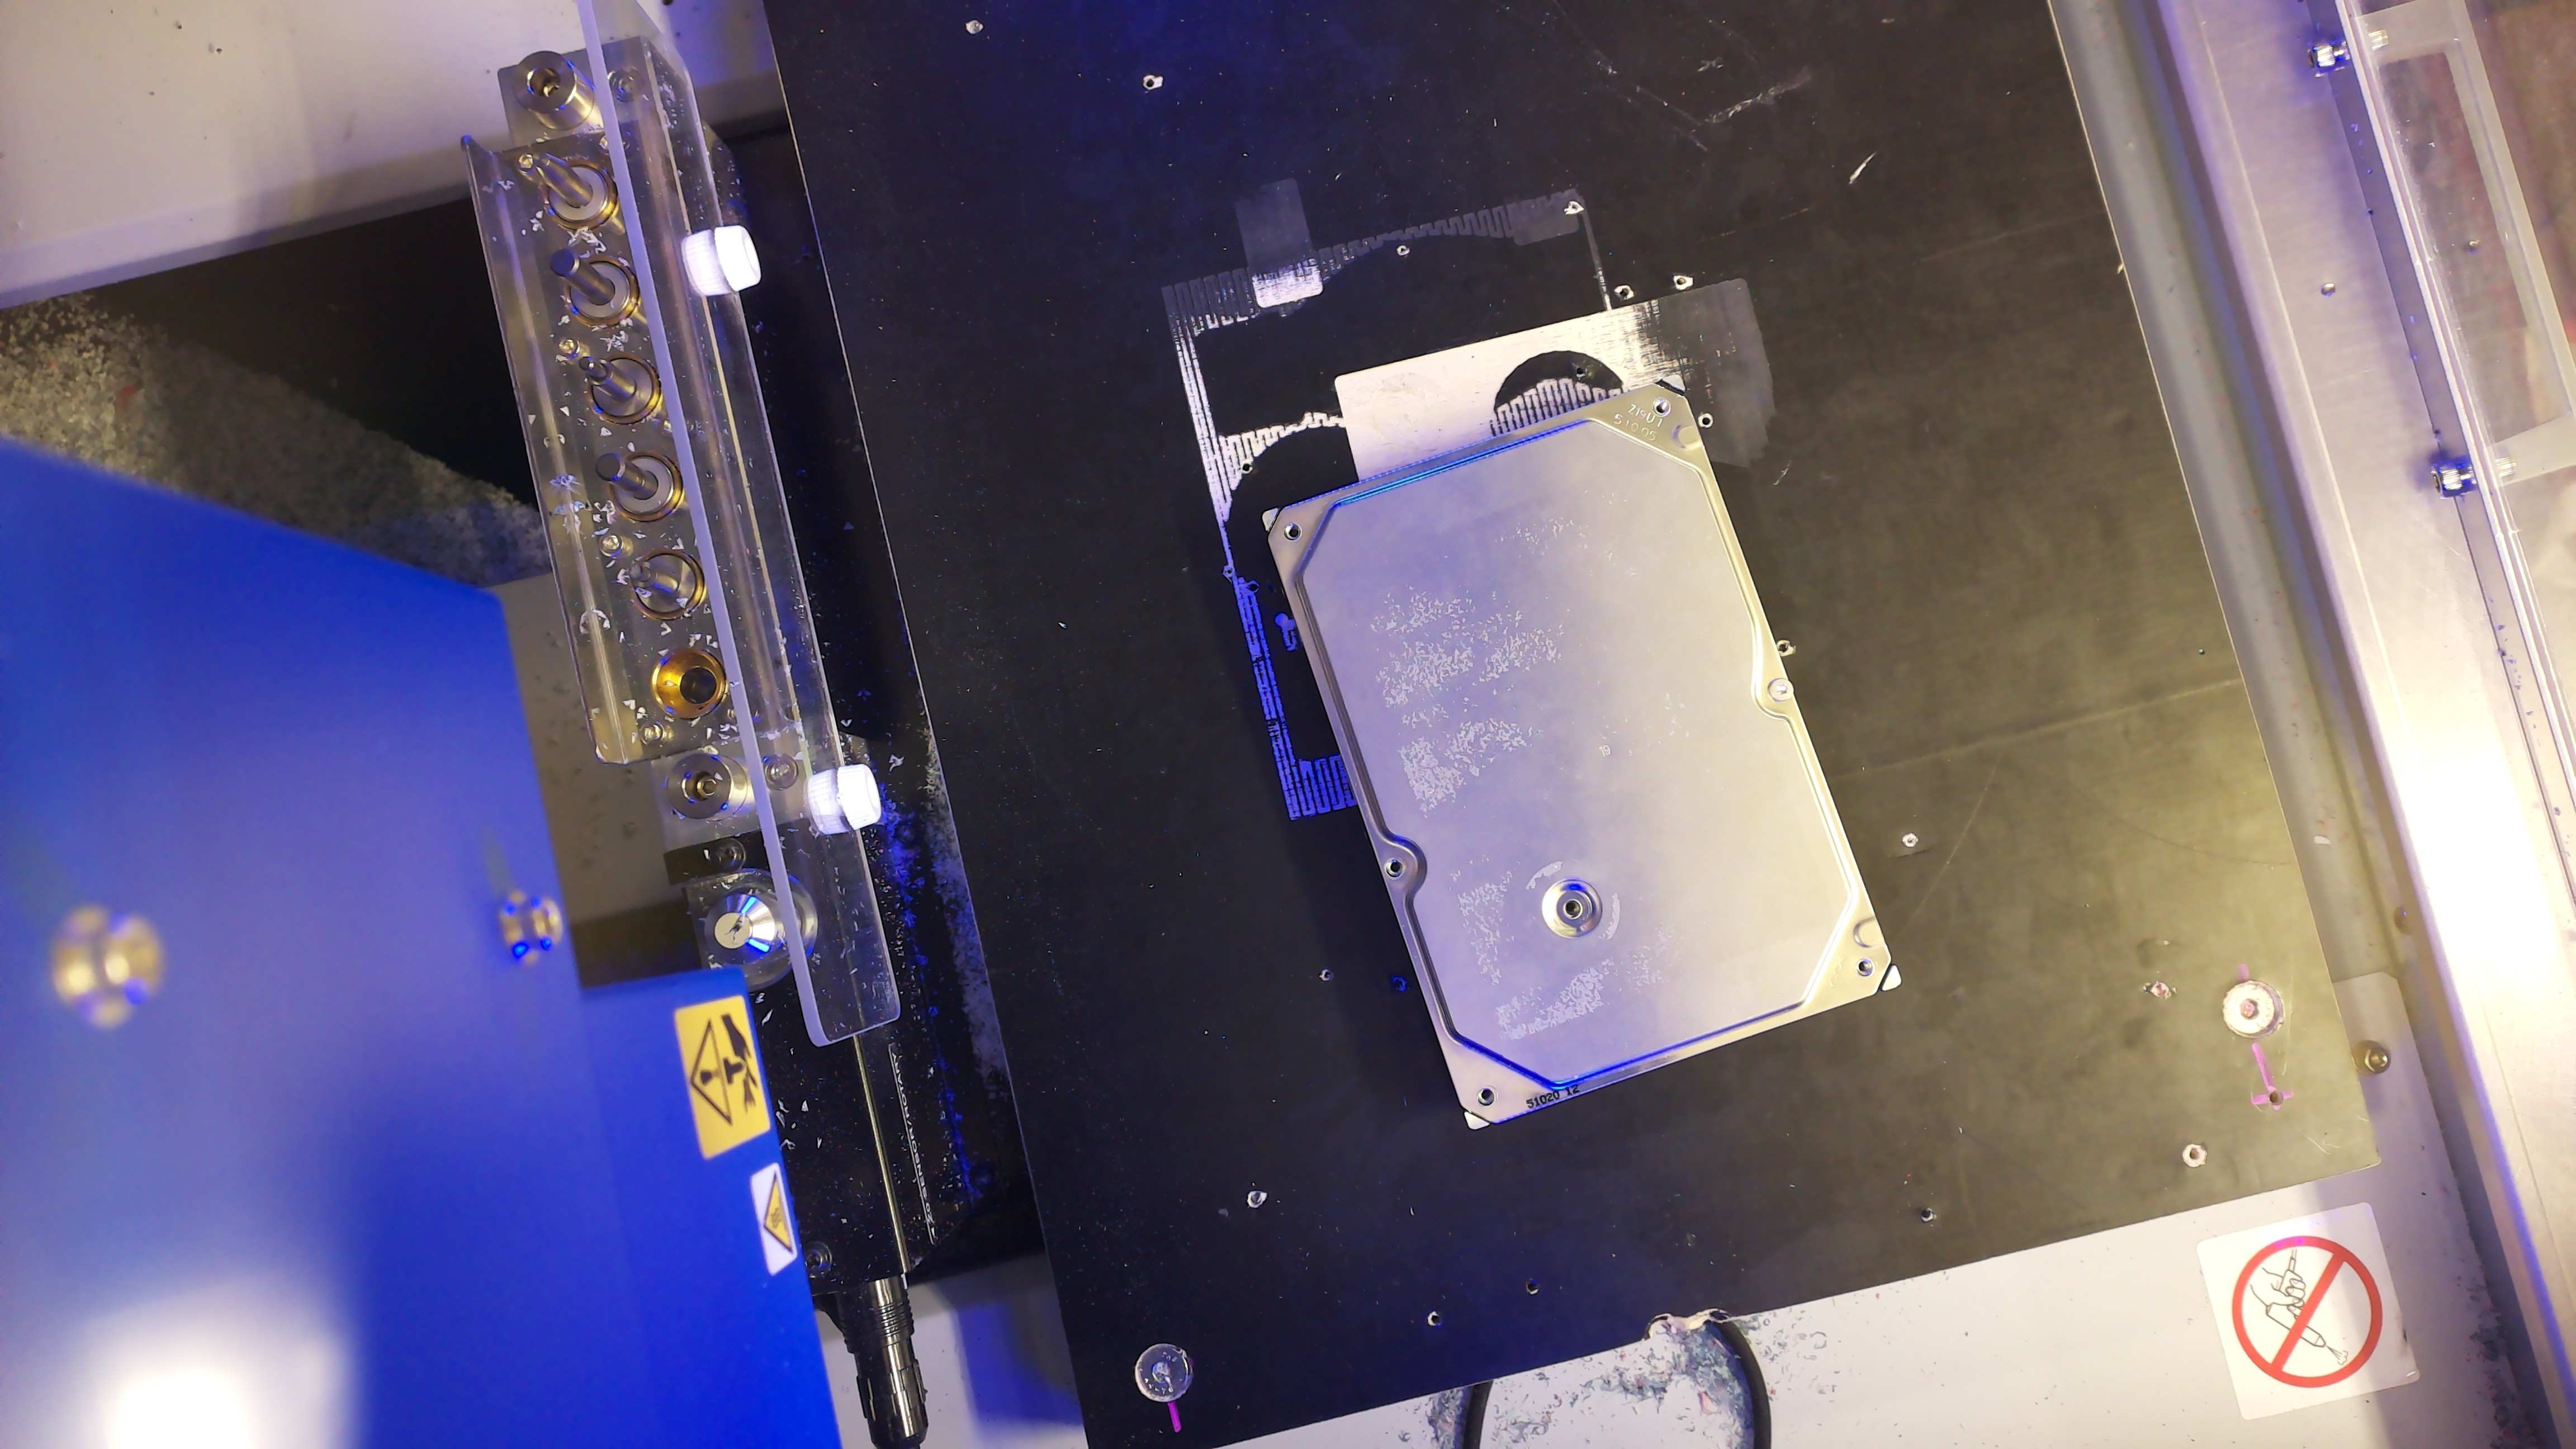Hole: (1560, 897, 1583, 920), (1854, 957, 1875, 978), (1384, 856, 1405, 878), (1476, 1085, 1495, 1108), (1283, 522, 1302, 541), (1652, 396, 1670, 418)
Screw: (1767, 678, 1794, 702)
